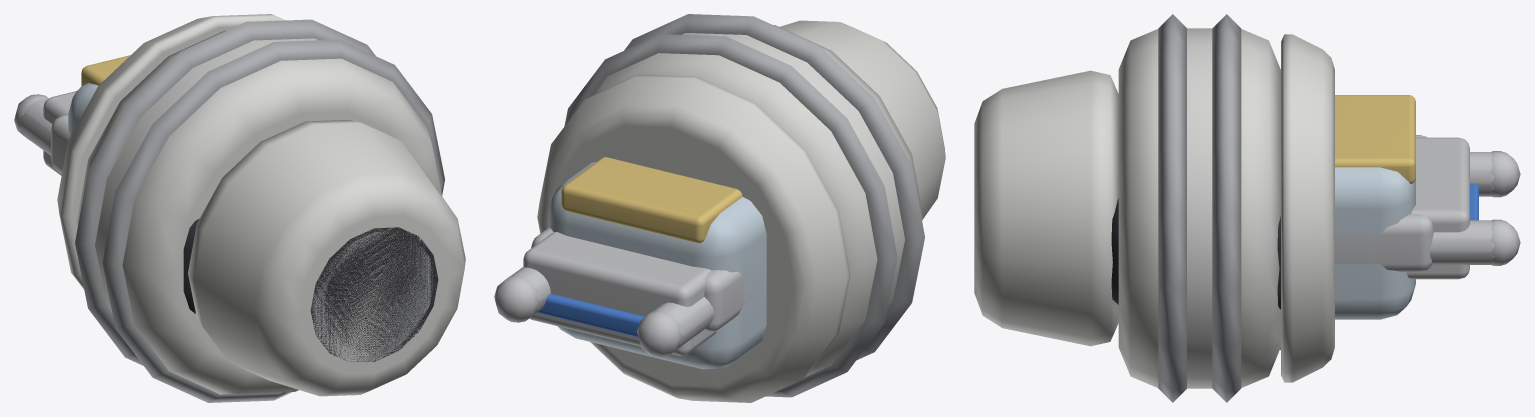
The model's file is plugs.glb.
The picture shows the model from 3 angles, left to right: view 1: azimuth 30°, elevation 25°; view 2: azimuth 150°, elevation 25°; view 3: azimuth 270°, elevation 25°; orthographic projection.
Visible parts, largest first — view 1: plug_power, plug_hdmi, plug_network, plug_jack, plug_usb; view 2: plug_power, plug_network, plug_usb, plug_hdmi; view 3: plug_power, plug_network, plug_usb, plug_hdmi.
Boxes of the visible parts, x1,y1,x2,y2 form: plug_power: [14, 14, 465, 402]; plug_hdmi: [51, 115, 438, 361]; plug_network: [68, 55, 433, 357]; plug_jack: [323, 241, 413, 349]; plug_usb: [43, 91, 422, 346]; plug_power: [494, 14, 945, 402]; plug_network: [548, 157, 766, 369]; plug_usb: [523, 232, 716, 355]; plug_hdmi: [531, 227, 764, 331]; plug_power: [974, 14, 1520, 402]; plug_network: [1280, 95, 1415, 350]; plug_usb: [1406, 137, 1478, 279]; plug_hdmi: [1111, 135, 1433, 309].
Size of the model in its own units: 0.216 by 0.216 by 0.303.
